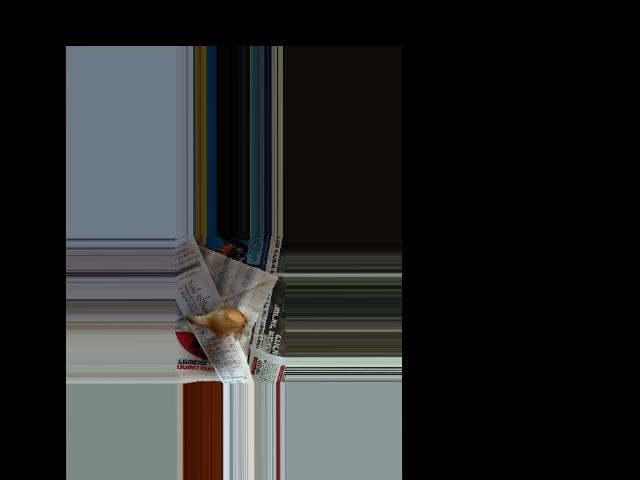onion: (200, 306, 244, 335)
